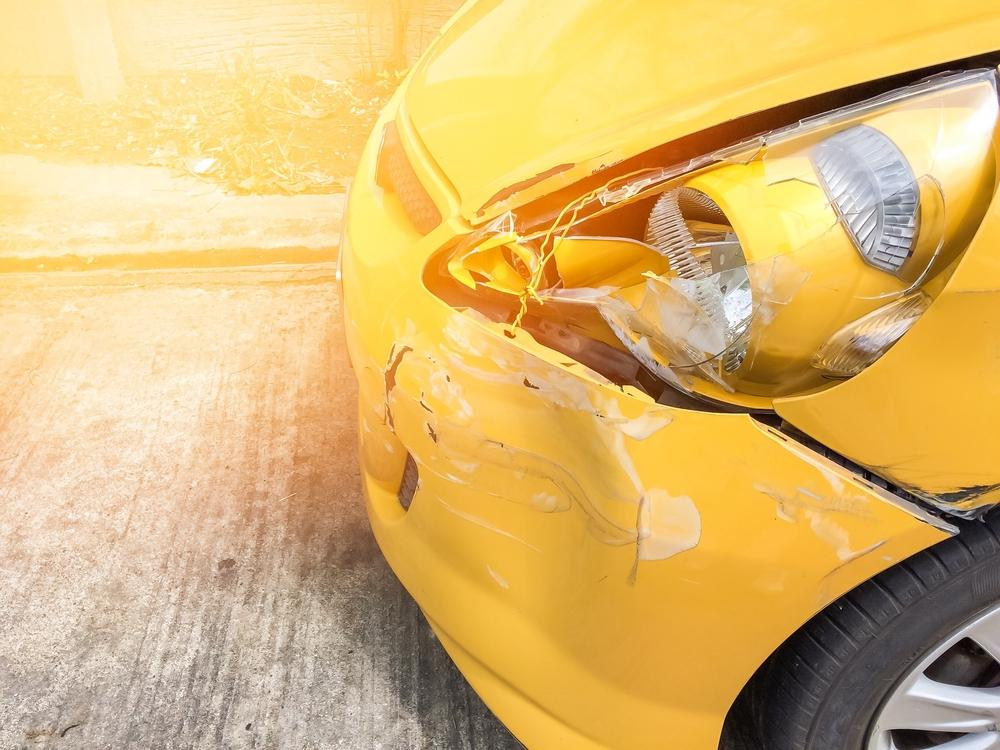dent: (431, 323, 642, 676)
lamp broken: (427, 54, 1000, 408)
scratch: (764, 455, 885, 573), (374, 339, 443, 461), (467, 158, 582, 223), (917, 476, 1000, 511)
